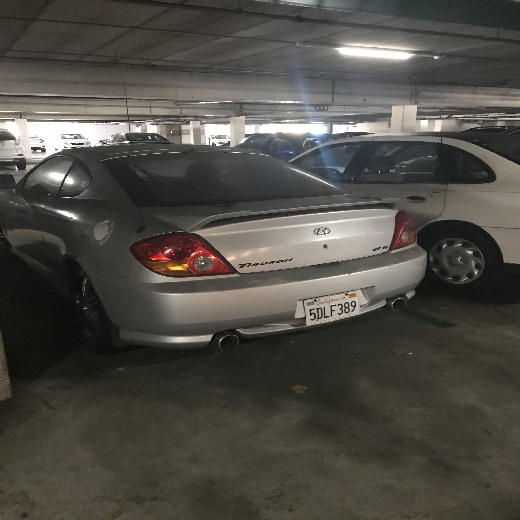license_plate: (300, 288, 362, 327)
vehicle: (2, 141, 426, 363)
